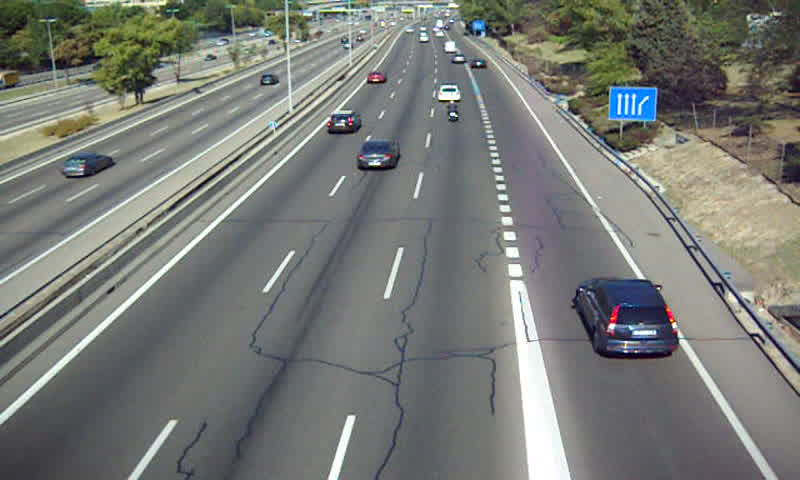car: (575, 277, 678, 356), (355, 139, 400, 170), (327, 110, 359, 135), (436, 85, 462, 103), (365, 72, 385, 86)
motorcycle: (444, 99, 462, 122)
